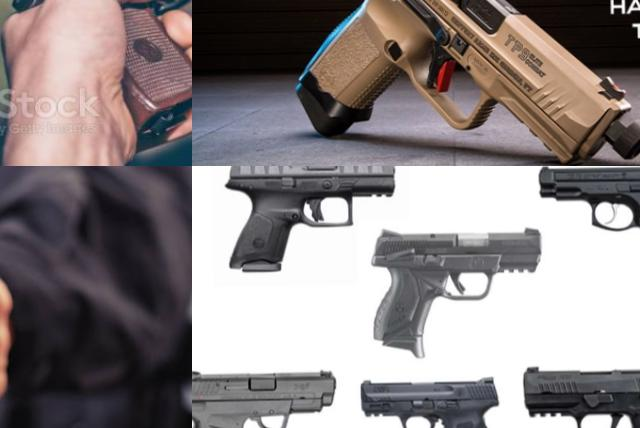handgun: (288, 0, 640, 166), (0, 166, 137, 428), (0, 0, 192, 145), (367, 220, 546, 361), (218, 166, 399, 274), (538, 166, 640, 278), (192, 362, 342, 428), (358, 373, 508, 428), (522, 359, 640, 428)
